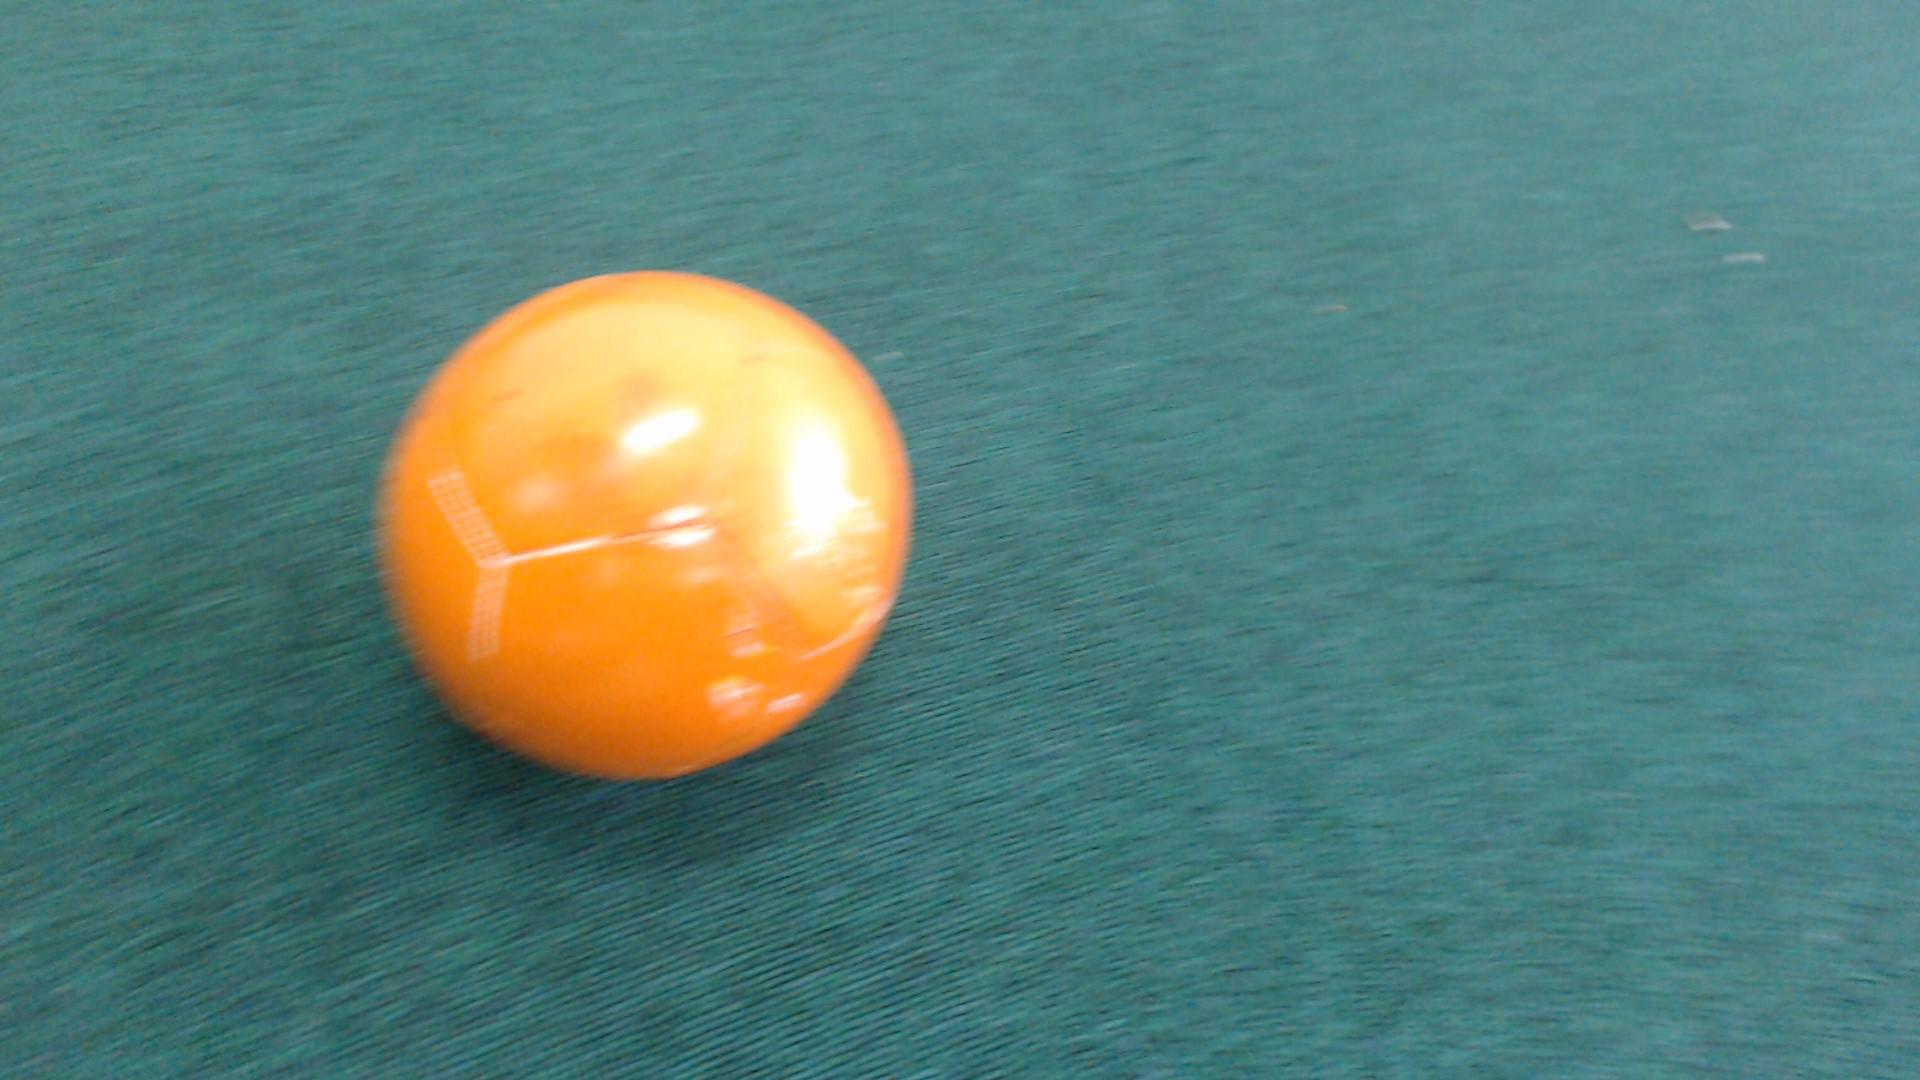bola: (361, 245, 943, 812)
